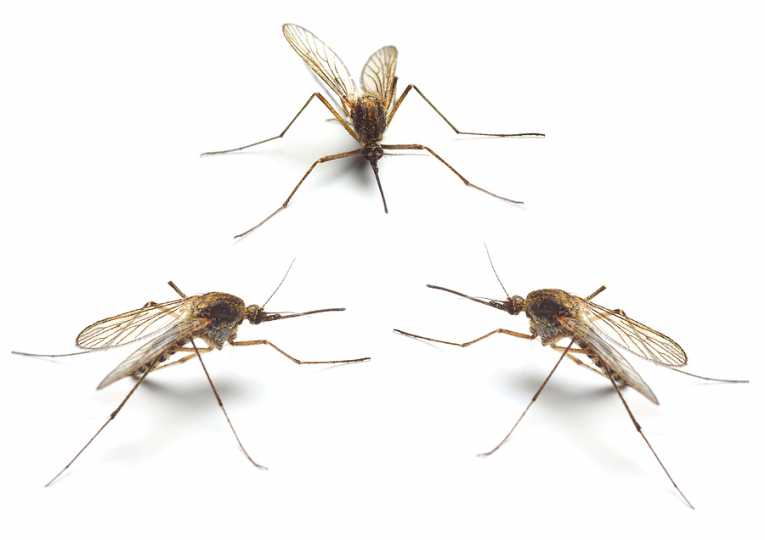mosquito: (404, 246, 754, 501), (23, 253, 383, 487), (205, 21, 549, 235)
